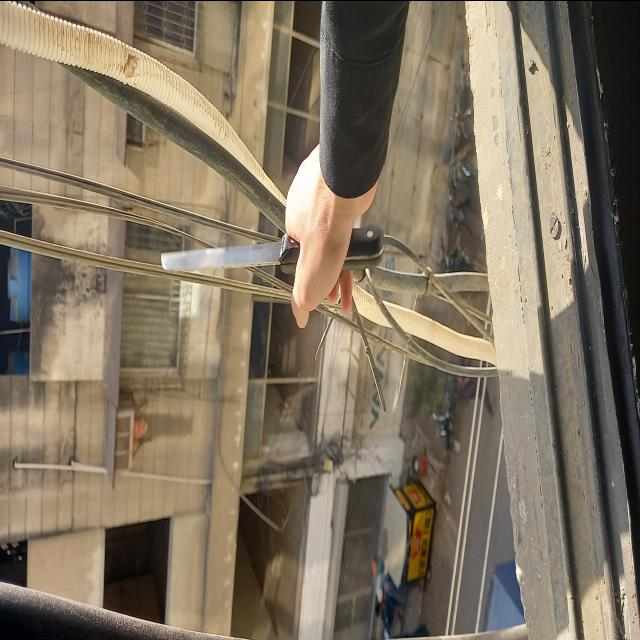Sharp-Object: (158, 198, 388, 310)
